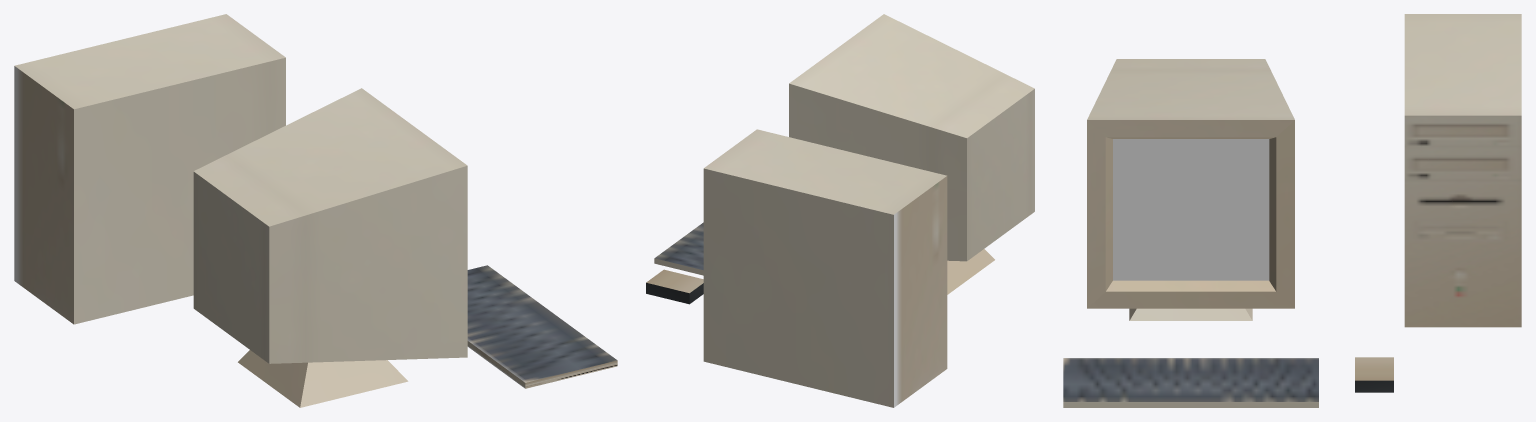
The model's file is Computer.fbx.
3 renders of one model, left to right at view 1: azimuth 30°, elevation 25°; view 2: azimuth 150°, elevation 25°; view 3: azimuth 270°, elevation 25°, orthographic. The views are drawn at different scales.
Parts seen in each view (by area): view 1: Cube.001, Cube, Cube.002; view 2: Cube, Cube.001, Cube.002, Cube.003; view 3: Cube.001, Cube, Cube.002, Cube.003.
Part boxes in pixels (left/top/right/bottom): Cube.001: left=193, top=88, right=467, bottom=407; Cube: left=14, top=14, right=285, bottom=324; Cube.002: left=467, top=265, right=617, bottom=388; Cube: left=703, top=129, right=947, bottom=407; Cube.001: left=789, top=14, right=1034, bottom=294; Cube.002: left=654, top=222, right=703, bottom=275; Cube.003: left=646, top=269, right=703, bottom=304; Cube.001: left=1087, top=59, right=1294, bottom=320; Cube: left=1404, top=14, right=1521, bottom=327; Cube.002: left=1063, top=358, right=1318, bottom=407; Cube.003: left=1355, top=357, right=1393, bottom=392.
Size of the model in its own units: 0.5044 by 0.2938 by 0.5507.
2 materials, 1 textured.
